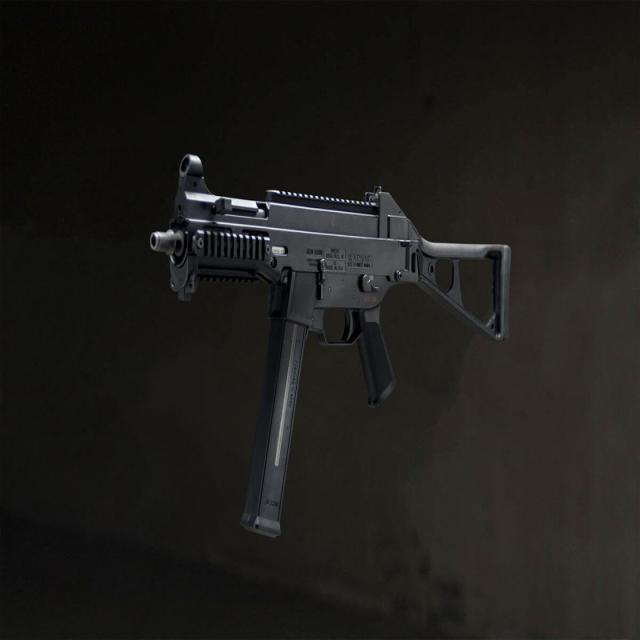SMG: (148, 155, 512, 542)
